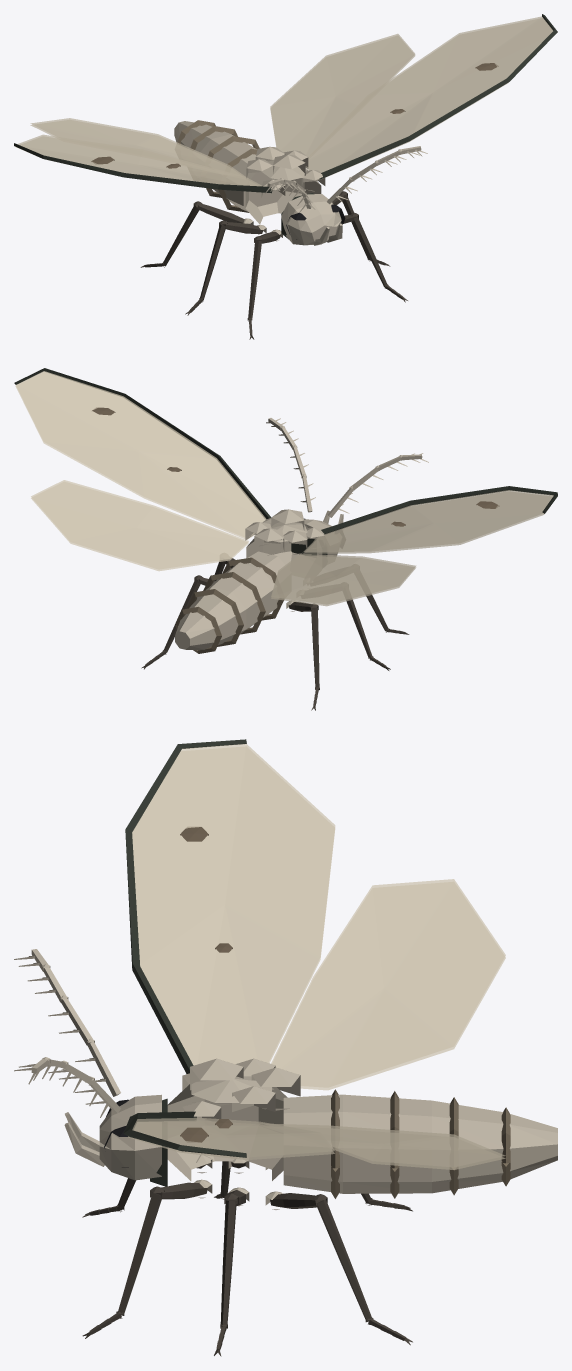
Rendered from moth.glb.
3 renders of one model, top to bottom at view 1: azimuth 30°, elevation 25°; view 2: azimuth 150°, elevation 25°; view 3: azimuth 270°, elevation 25°, orthographic. The views are drawn at different scales.
Parts seen in each view (by area): view 1: forewing001, hindwing001, forewing002, hindwing002, abdomen, HeadBase001, thorax_plate, wing_costa001, ThoraxCore, wing_costa002, abdomen_band, Tibia001 (+4 smaller); view 2: forewing001, hindwing001, forewing002, hindwing002, abdomen, abdomen_band, thorax_plate, wing_costa001, wing_costa002, ThoraxCore, Tibia005; view 3: forewing002, hindwing002, abdomen, hindwing001, forewing001, ThoraxCore, thorax_plate, HeadBase001, wing_costa002, abdomen_band, wing_costa001, Tibia004 (+3 smaller).
Part boxes in pixels (left/top/right/bottom): forewing001: left=305, top=16, right=553, bottom=180; hindwing001: left=270, top=33, right=415, bottom=157; forewing002: left=15, top=134, right=261, bottom=186; hindwing002: left=30, top=118, right=245, bottom=177; abdomen: left=174, top=121, right=285, bottom=211; HeadBase001: left=281, top=194, right=341, bottom=245; thorax_plate: left=246, top=146, right=325, bottom=200; wing_costa001: left=319, top=14, right=557, bottom=179; ThoraxCore: left=245, top=160, right=321, bottom=224; wing_costa002: left=14, top=143, right=272, bottom=193; abdomen_band: left=177, top=120, right=259, bottom=212; Tibia001: left=248, top=240, right=261, bottom=319; forewing001: left=15, top=371, right=266, bottom=539; hindwing001: left=31, top=480, right=248, bottom=571; forewing002: left=303, top=490, right=553, bottom=553; hindwing002: left=271, top=553, right=416, bottom=606; abdomen: left=175, top=551, right=285, bottom=649; abdomen_band: left=175, top=557, right=284, bottom=653; thorax_plate: left=245, top=509, right=324, bottom=555; wing_costa001: left=14, top=368, right=271, bottom=519; wing_costa002: left=321, top=486, right=557, bottom=534; ThoraxCore: left=246, top=522, right=322, bottom=565; Tibia005: left=311, top=608, right=319, bottom=688; forewing002: left=132, top=744, right=335, bottom=1065; hindwing002: left=271, top=879, right=505, bottom=1090; abdomen: left=283, top=1094, right=557, bottom=1193; hindwing001: left=265, top=1123, right=505, bottom=1169; forewing001: left=128, top=1117, right=334, bottom=1160; ThoraxCore: left=167, top=1076, right=287, bottom=1180; thorax_plate: left=182, top=1058, right=300, bottom=1123; HeadBase001: left=99, top=1094, right=161, bottom=1180; wing_costa002: left=125, top=739, right=246, bottom=1073; abdomen_band: left=331, top=1089, right=510, bottom=1198; wing_costa001: left=123, top=1111, right=246, bottom=1157; Tibia004: left=316, top=1199, right=371, bottom=1321.
Bounding box in the file's own units: 6.63 × 2.47 × 3.67.
